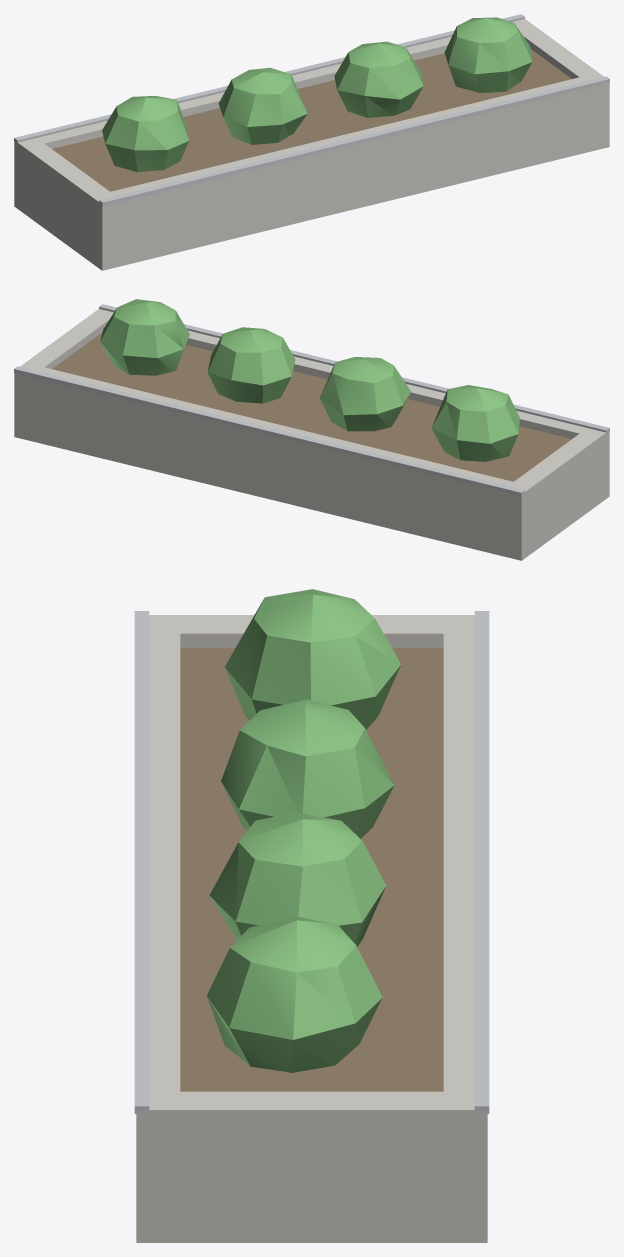
File: planter_ledge.glb
3 renders of one model, top to bottom at view 1: azimuth 30°, elevation 25°; view 2: azimuth 150°, elevation 25°; view 3: azimuth 270°, elevation 25°, orthographic. The views are drawn at different scales.
Parts seen in each view (by area): view 1: body; view 2: body; view 3: body.
Boxes of the visible parts, bbox=[...] form: body: bbox=[14, 14, 609, 270]; body: bbox=[14, 299, 609, 560]; body: bbox=[134, 589, 489, 1242].
Bounding box in the file's own units: 4 × 0.9051 × 1.21.
